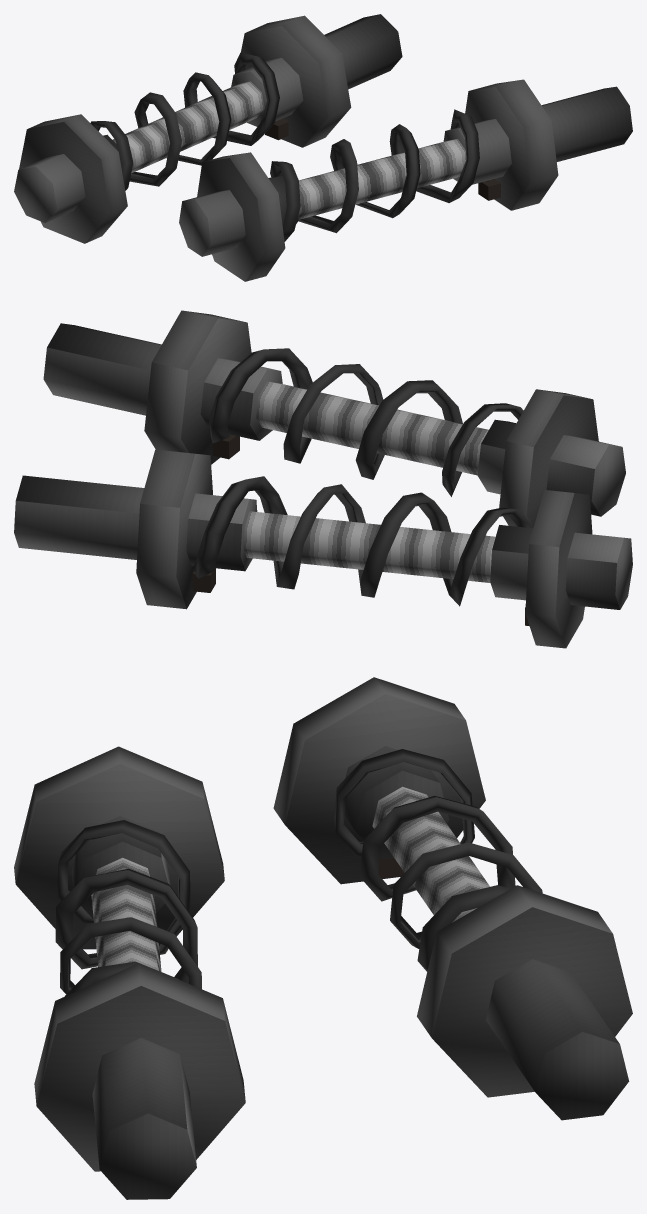
Rendered from Suspension.fbx.
The picture shows the model from 3 angles, top to bottom: view 1: azimuth 30°, elevation 25°; view 2: azimuth 150°, elevation 25°; view 3: azimuth 270°, elevation 25°; orthographic projection. The views are drawn at different scales.
Parts seen in each view (by area): view 1: Suspension; view 2: Suspension; view 3: Suspension.
Part boxes in pixels (box(x1,y1,x2,y2)): Suspension: box(14, 14, 632, 281); Suspension: box(14, 310, 632, 648); Suspension: box(14, 677, 632, 1199).
Bounding box in the file's own units: 0.3102 × 0.064 × 0.1942.
